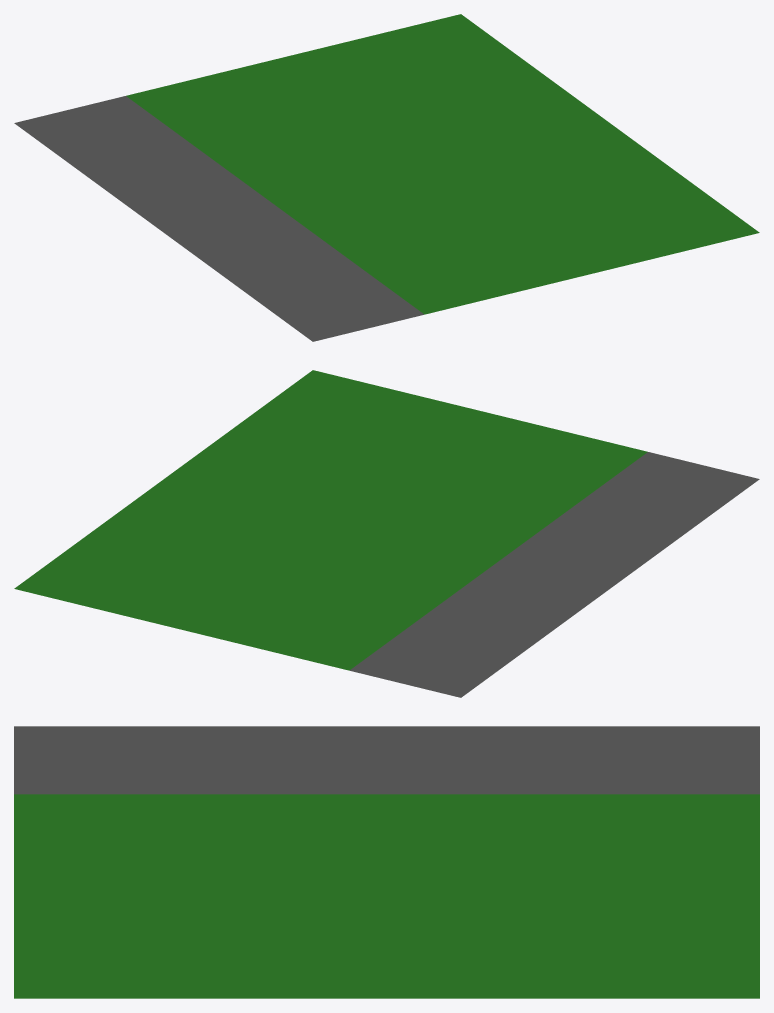
Rendered from terrain.fbx.
The picture shows the model from 3 angles, top to bottom: view 1: azimuth 30°, elevation 25°; view 2: azimuth 150°, elevation 25°; view 3: azimuth 270°, elevation 25°; orthographic projection. The views are drawn at different scales.
Visible parts, largest first — view 1: Plane; view 2: Plane; view 3: Plane.
Boxes of the visible parts, box(x1,y1,x2,y2) form: Plane: box(14, 14, 759, 341); Plane: box(14, 370, 759, 697); Plane: box(14, 726, 759, 998).
Size of the model in its own units: 50087 by 0.00945 by 58011.
